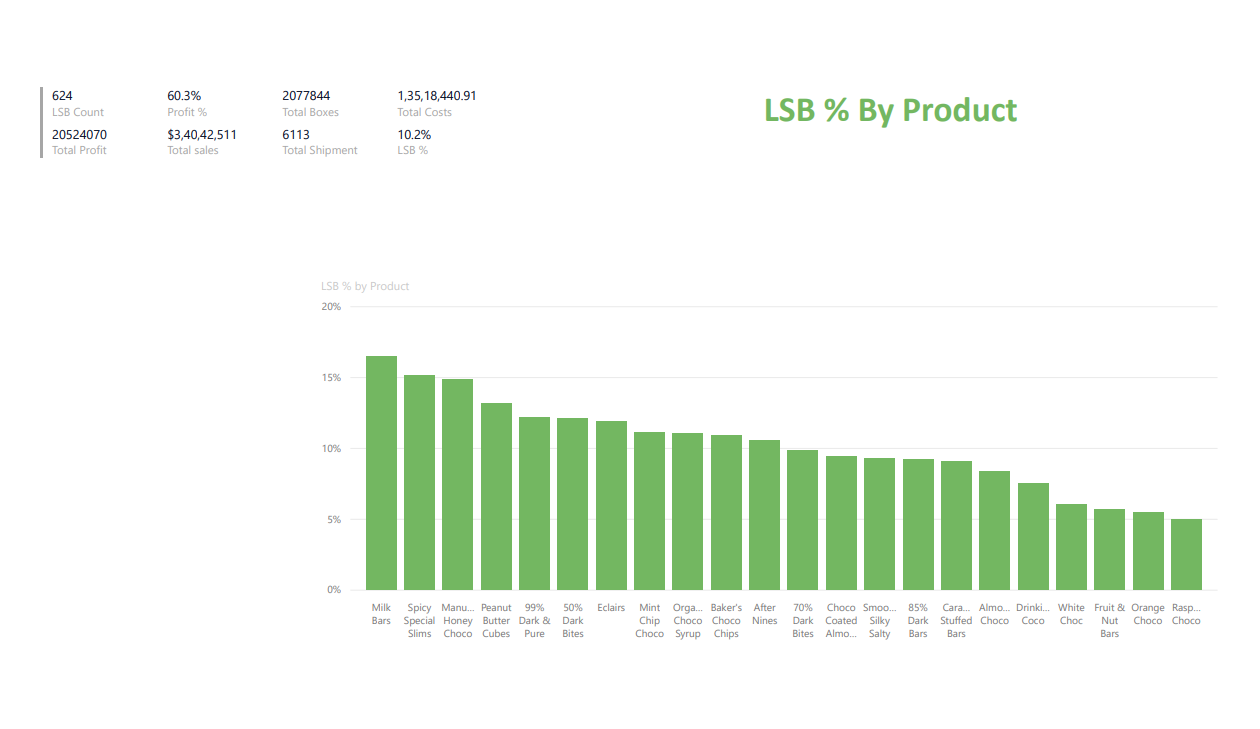

Layout of this report page (visuals, bound fields, positions):
{"tool":"powerbi","page":{"name":"LSB % By product ","canvas":[1280,720],"ordinal":0},"visuals":[{"type":"multiRowCard","fields":{"Values":["_measures.LSB Count","_measures.Profit %","_measures.Total Boxes","_measures.Total Costs","_measures.Total Profit","_measures.Total sales","_measures.Total Shipment","_measures.LSB %"]},"box":[15.9,64.8,506.3,205.4],"z":0},{"type":"clusteredColumnChart","fields":{"Category":["shipments.Product"],"Y":["_measures.LSB %"]},"box":[310.6,270.2,950.1,386.4],"z":1000},{"type":"textbox","box":[574.7,64.8,686,102.7],"z":1001}]}

Visuals, with their boxes in screenshot pixels (x1, y1, x2, y2), scaled from the page's 1280x720 canvas onto the 1260x729 screenshot:
multiRowCard - _measures.LSB Count x _measures.Profit %: pyautogui.locateOnScreen(16, 66, 514, 274)
clusteredColumnChart - shipments.Product x _measures.LSB %: pyautogui.locateOnScreen(306, 274, 1241, 665)
textbox: pyautogui.locateOnScreen(566, 66, 1241, 170)
